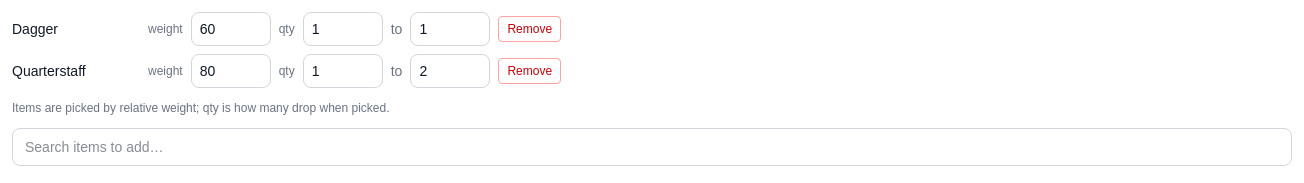
Scenario: LootItemsEditor › clearing a weight keeps the prior value and restores it on blur
Clear the number field named "Dagger weight" at (231, 29), box [191,12,271,46]
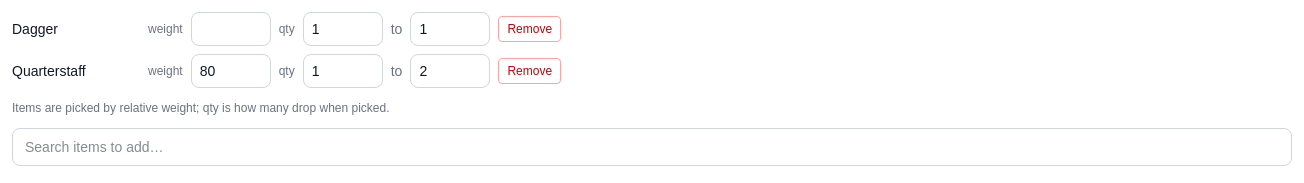
Leave the number field named "Dagger weight", box [191,12,271,46]
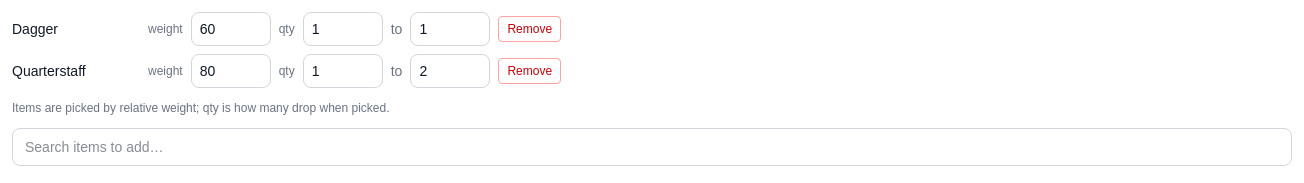
Now the number field named "Dagger weight" holds "60", box [191,12,271,46]
